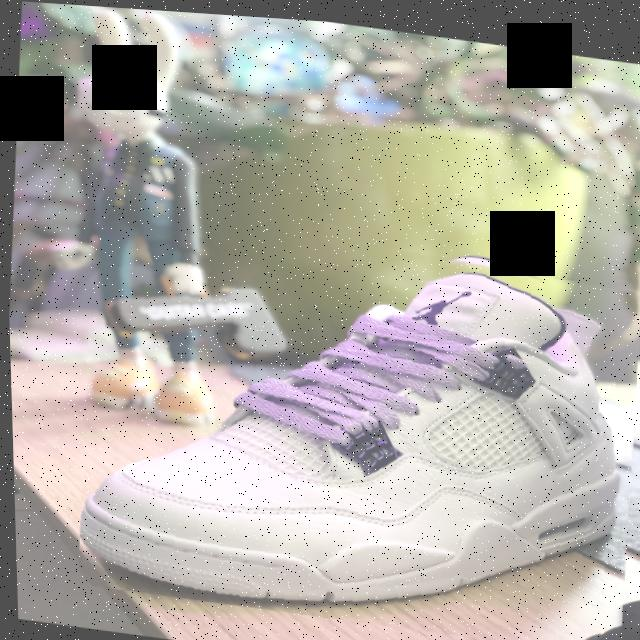shoe: (65, 192, 640, 640)
